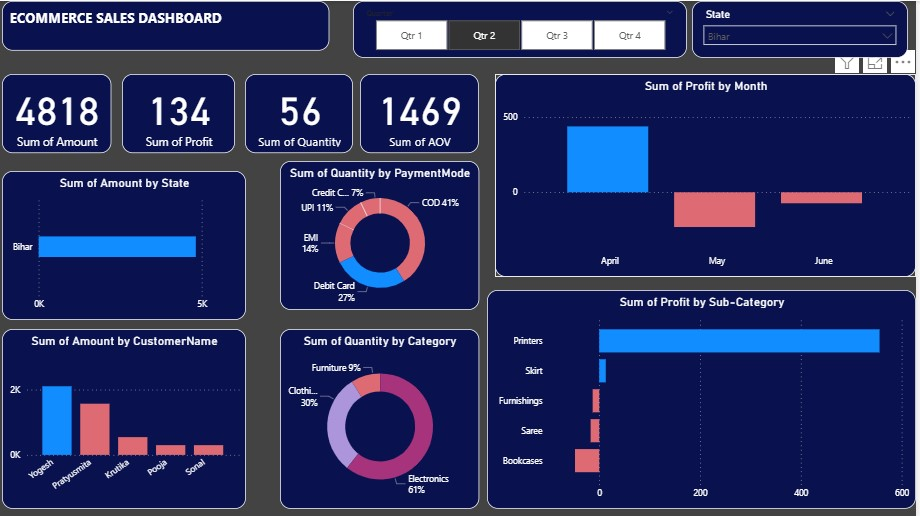

What the dashboard file says about the page in this screenshot:
{"tool":"powerbi","page":{"name":"Sales","canvas":[1280,720],"ordinal":0},"visuals":[{"type":"textbox","box":[9.7,0,454.5,69.5],"z":0},{"type":"columnChart","fields":{"Y":["Sum(Details.Profit)"],"Category":["Orders.Order Date.Variation.Date Hierarchy.Month"]},"box":[695,101.5,585.2,282.2],"z":1000},{"type":"barChart","fields":{"Category":["Details.Sub-Category"],"Y":["Sum(Details.Profit)"]},"box":[683.9,401.7,596.3,304.4],"z":2000},{"type":"donutChart","fields":{"Category":["Details.Category"],"Y":["Sum(Details.Quantity)"]},"box":[396.1,455.9,276.6,250.2],"z":3000},{"type":"donutChart","fields":{"Category":["Details.PaymentMode"],"Y":["Sum(Details.Quantity)"]},"box":[396.1,222.4,276.6,207.1],"z":4000},{"type":"card","fields":{"Values":["Sum(Details.Amount)"]},"box":[9.7,101.5,151.5,109.8],"z":5000},{"type":"card","fields":{"Values":["Sum(Details.Profit)"]},"box":[176.5,101.5,157.1,109.8],"z":6000},{"type":"card","fields":{"Values":["Sum(Details.Quantity)"]},"box":[347.5,101.5,150.1,109.8],"z":7000},{"type":"card","fields":{"Values":["Sum(Details.AOV)"]},"box":[507.3,101.5,165.4,109.8],"z":8000},{"type":"barChart","fields":{"Category":["Orders.State"],"Y":["Sum(Details.Amount)"]},"box":[9.7,236.3,339.2,207.1],"z":9000},{"type":"columnChart","fields":{"Category":["Orders.CustomerName"],"Y":["Sum(Details.Amount)"]},"box":[10,456,339,250],"z":10000},{"type":"slicer","fields":{"Values":["Orders.Order Date.Variation.Date Hierarchy.Quarter"]},"box":[497.6,0,464.2,79.2],"z":11000},{"type":"slicer","fields":{"Values":["Orders.State"]},"box":[968.8,0,300.2,79.2],"z":12000}]}

Visuals, with their boxes in screenshot pixels (x1, y1, x2, y2), scaled from the page's 1280x720 canvas onto the 920x516 screenshot:
textbox: BBox(7, 0, 334, 50)
columnChart - Sum(Details.Profit) x Orders.Order Date.Variation.Date Hierarchy.Month: BBox(500, 73, 919, 275)
barChart - Details.Sub-Category x Sum(Details.Profit): BBox(492, 288, 919, 506)
donutChart - Details.Category x Sum(Details.Quantity): BBox(285, 327, 484, 506)
donutChart - Details.PaymentMode x Sum(Details.Quantity): BBox(285, 159, 484, 308)
card - Sum(Details.Amount): BBox(7, 73, 116, 151)
card - Sum(Details.Profit): BBox(127, 73, 240, 151)
card - Sum(Details.Quantity): BBox(250, 73, 358, 151)
card - Sum(Details.AOV): BBox(365, 73, 484, 151)
barChart - Orders.State x Sum(Details.Amount): BBox(7, 169, 251, 318)
columnChart - Orders.CustomerName x Sum(Details.Amount): BBox(7, 327, 251, 506)
slicer - Orders.Order Date.Variation.Date Hierarchy.Quarter: BBox(358, 0, 691, 57)
slicer - Orders.State: BBox(696, 0, 912, 57)
